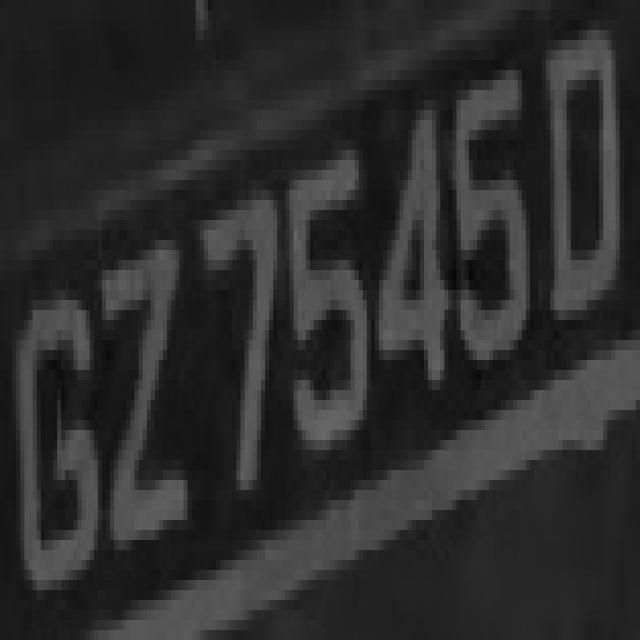4: (363, 70, 452, 430)
5: (269, 120, 379, 470), (444, 50, 534, 400)
7: (180, 160, 294, 520)
D: (542, 0, 628, 350)
G: (4, 240, 102, 630)
Z: (77, 190, 192, 590)
